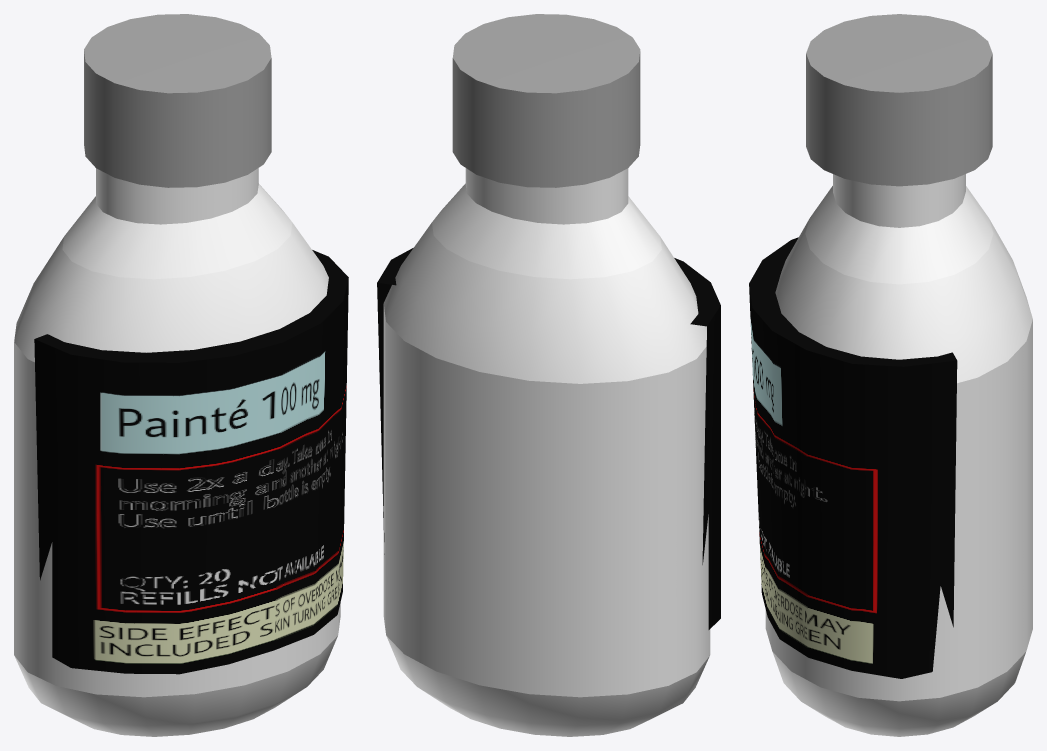
The model's file is pills.obj.
3 views of the same model, side by side, from view 1: azimuth 30°, elevation 25°; view 2: azimuth 150°, elevation 25°; view 3: azimuth 270°, elevation 25° (orthographic).
Visible parts, largest first — view 1: pCylinder33, pCylinder31, pCylinder32; view 2: pCylinder31, pCylinder32, pCylinder33; view 3: pCylinder31, pCylinder33, pCylinder32.
Part boxes in pixels (x1,y1,x2,y2): pCylinder33: (34, 250, 348, 674); pCylinder31: (14, 168, 340, 736); pCylinder32: (84, 14, 271, 187); pCylinder31: (383, 168, 710, 736); pCylinder32: (452, 14, 640, 187); pCylinder33: (377, 248, 720, 629); pCylinder31: (765, 174, 1032, 736); pCylinder33: (749, 237, 957, 678); pCylinder32: (806, 14, 992, 186).
Bounding box in the file's own units: 2.07 × 4.1 × 1.66.
